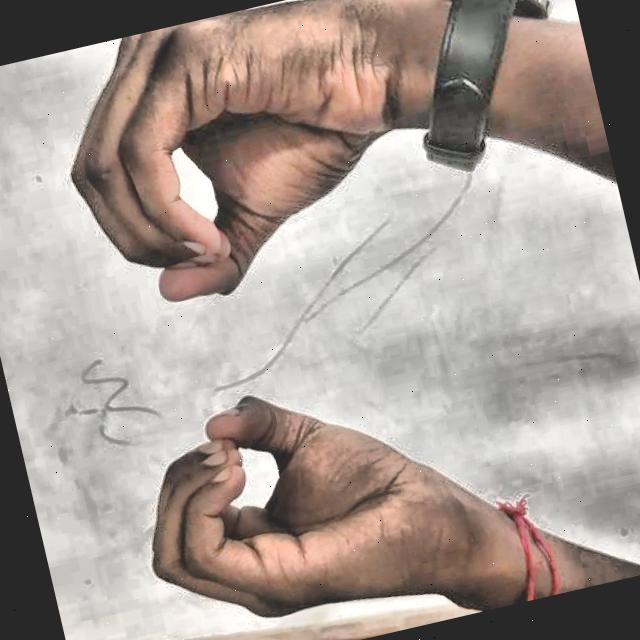Bisharga: (2, 0, 515, 640)
